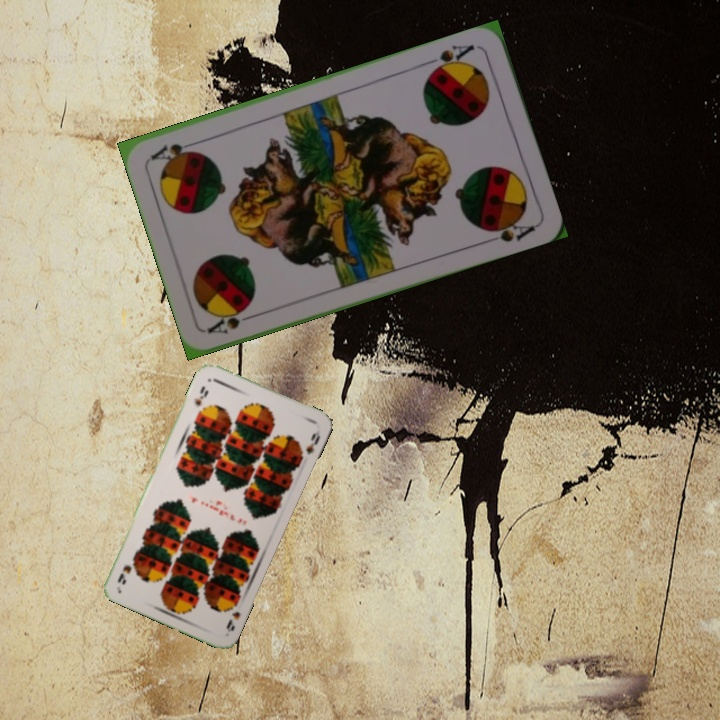S9: (222, 596, 243, 635), (190, 382, 211, 409)
SA: (422, 40, 478, 77), (204, 304, 262, 337)
